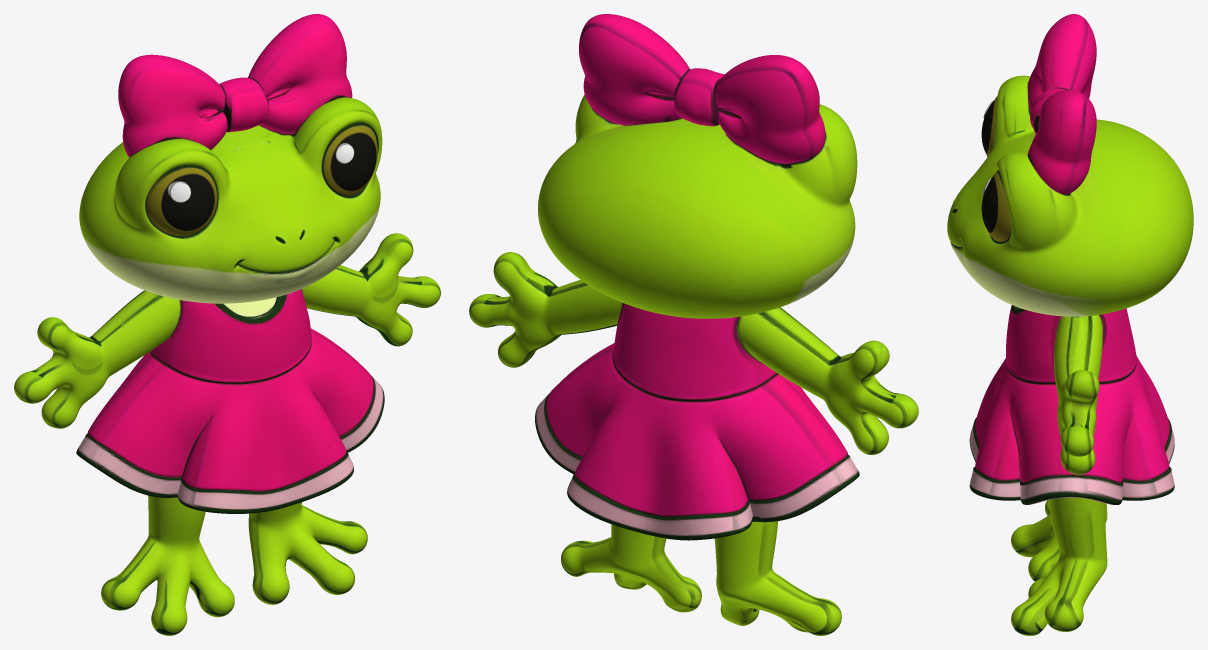
File: frog-female.glb
3 renders of one model, left to right at view 1: azimuth 30°, elevation 25°; view 2: azimuth 150°, elevation 25°; view 3: azimuth 270°, elevation 25°, orthographic. The views are drawn at different scales.
Size of the model in its own units: 1.49 by 1.9 by 0.7849.
1 material, 1 textured.
